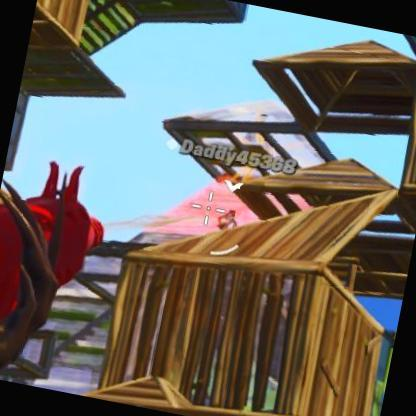person: (220, 209, 237, 230)
